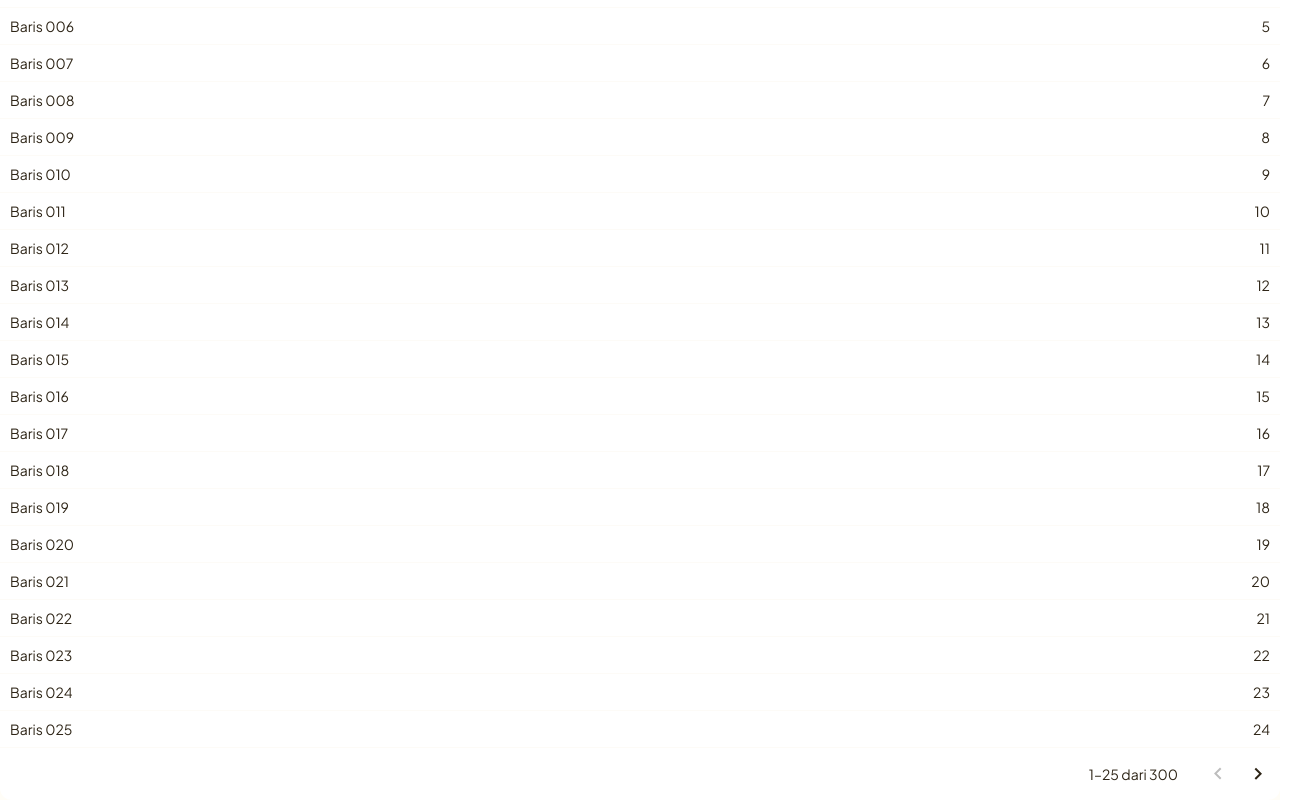
AdminDataGrid › 300 baris: 25 per halaman dengan kaki halaman berbahasa Indonesia
The image size is (1292, 800).
(page scrolled)
expect the text "1–25 dari 300" is shown: met, box [1089,764,1178,784]
Click the button named "halaman berikutnya".
click(1258, 774)  # box [1238,754,1278,794]
(page scrolled)
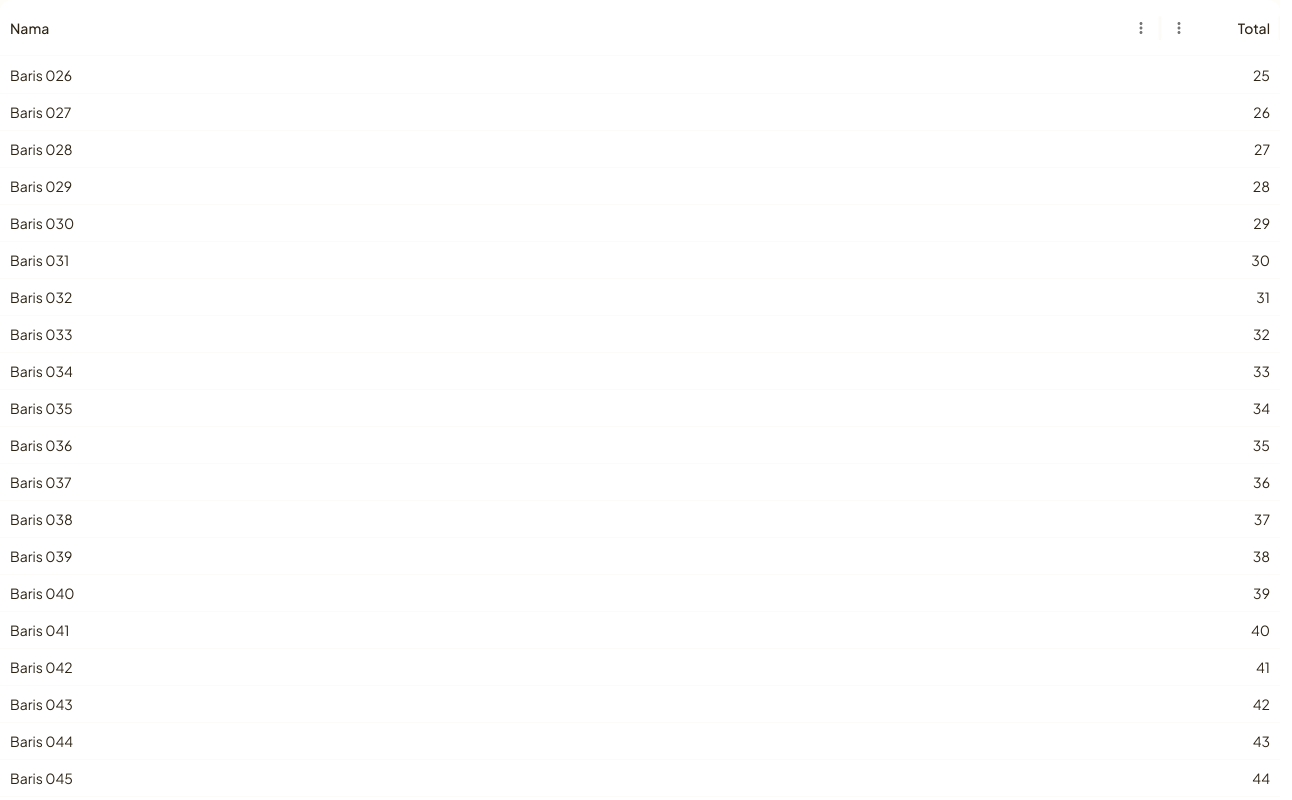
expect the link "Baris 026" is shown: met, box [10,65,72,85]
